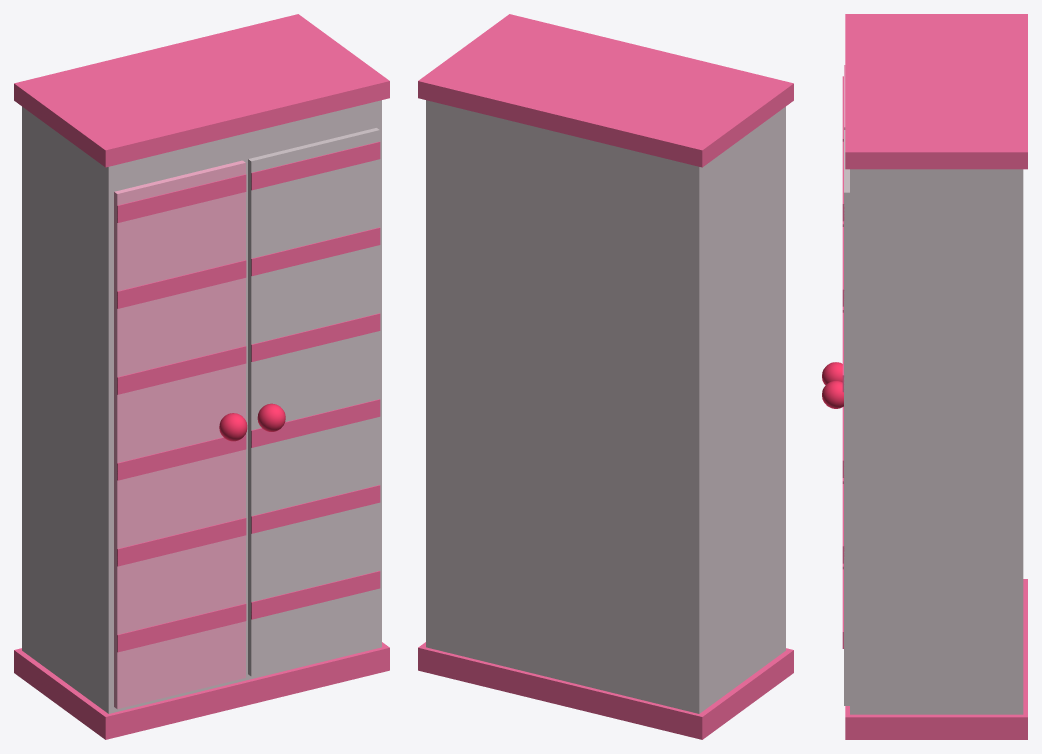
File: wardrobe_cute_1.glb
3 views of the same model, side by side, from view 1: azimuth 30°, elevation 25°; view 2: azimuth 150°, elevation 25°; view 3: azimuth 270°, elevation 25° (orthographic).
Bounding box in the file's own units: 1.04 × 2.06 × 0.6543.
